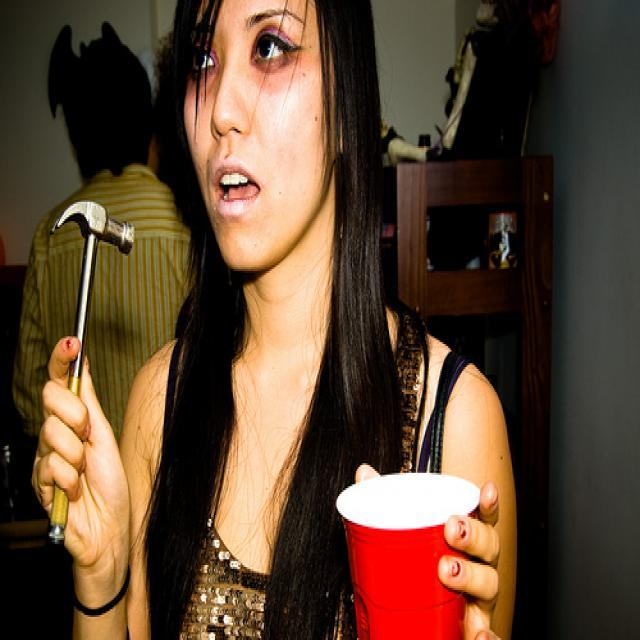hammer: (15, 196, 145, 554)
